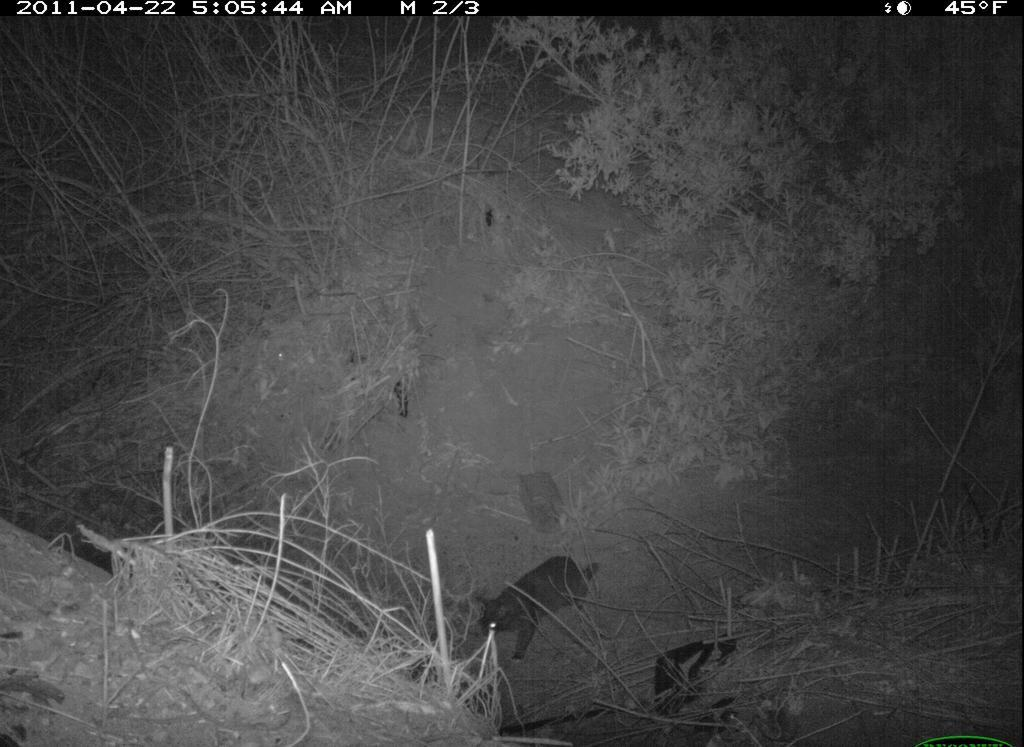cat: (457, 543, 611, 670)
